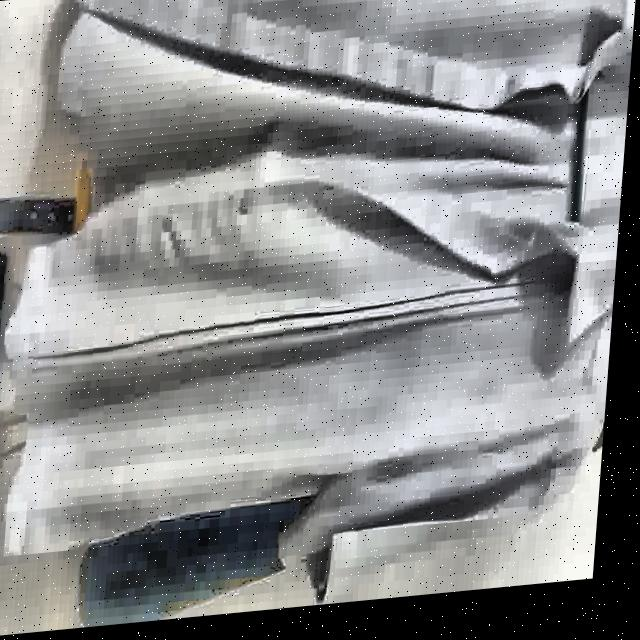clothes: (0, 0, 640, 636)
